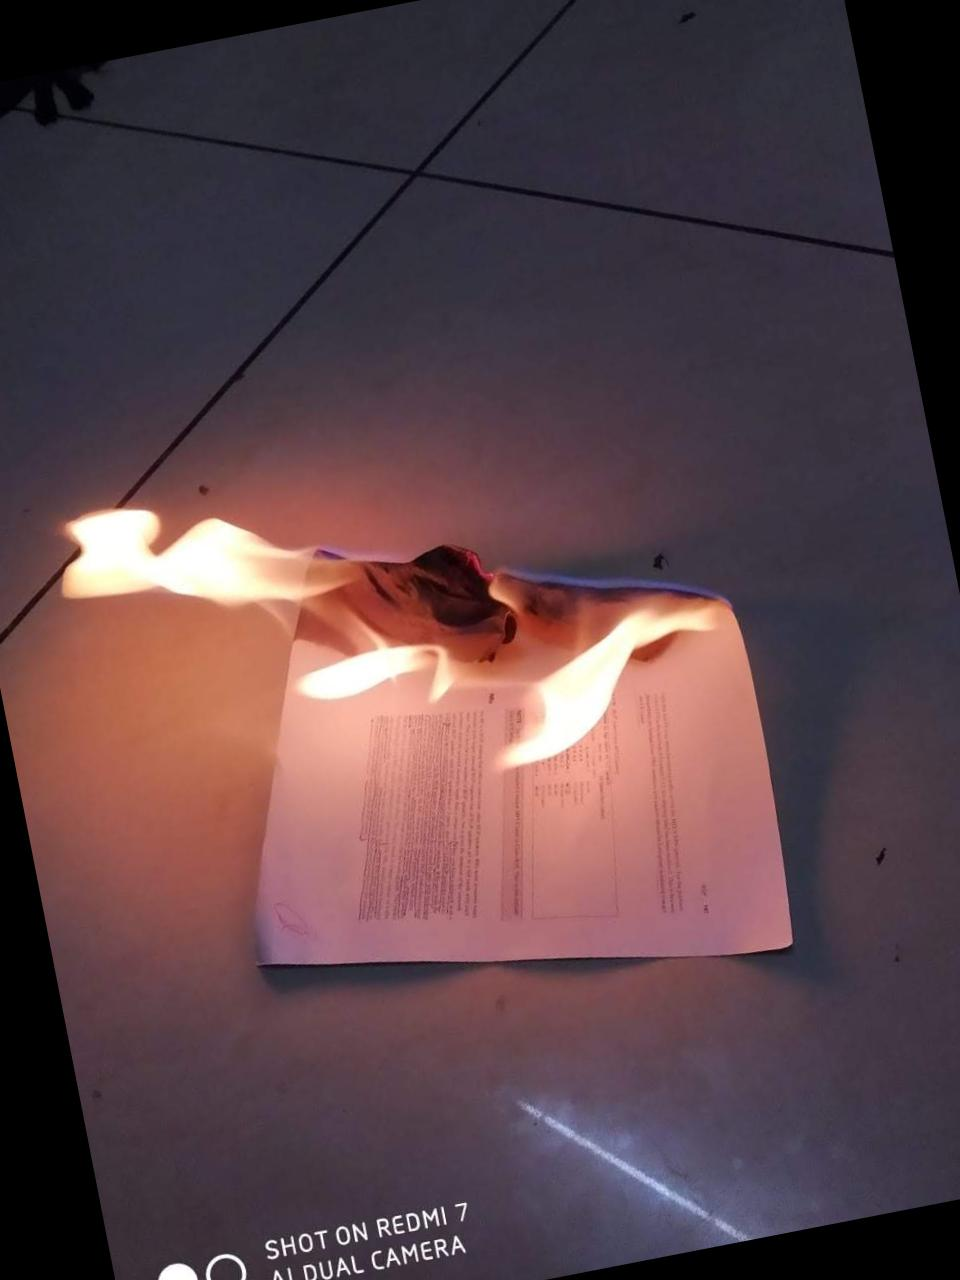Fire: (40, 392, 749, 862)
